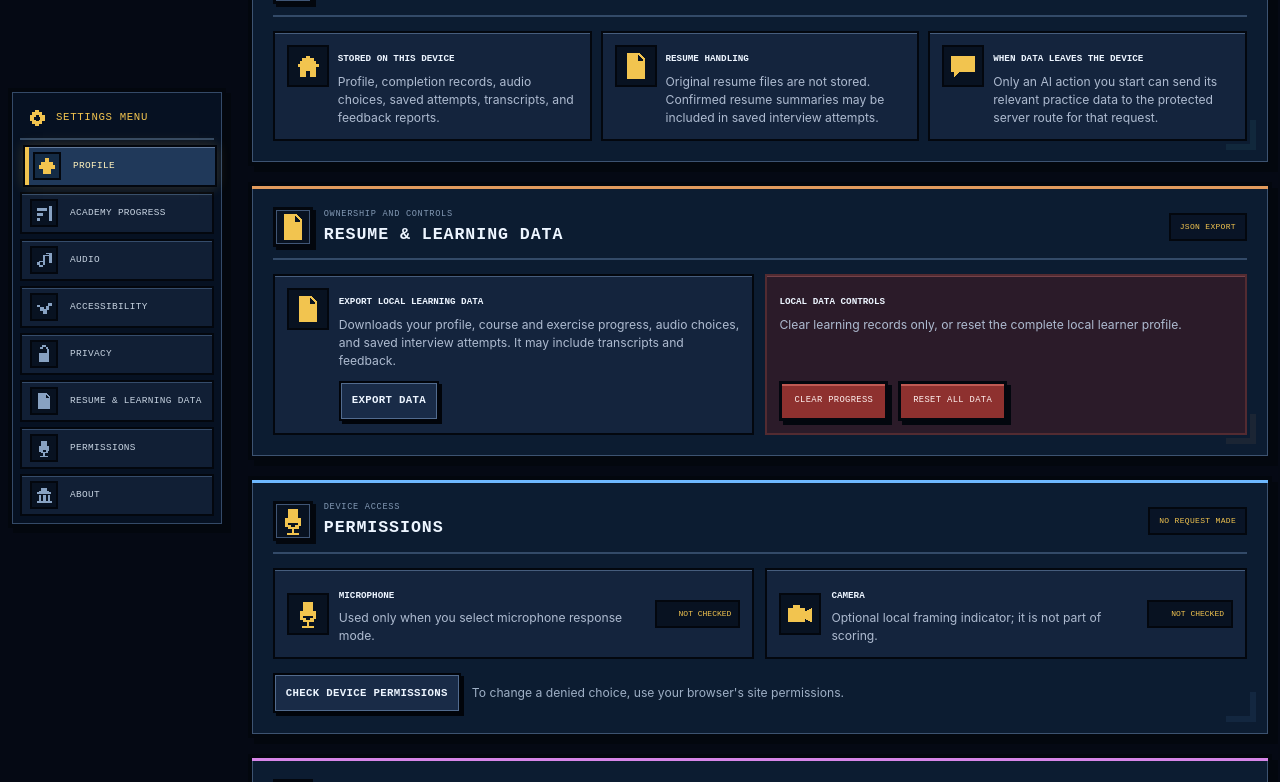
Test case: SettingsPanel › resets progress and profile only after confirmation
(page scrolled)
Click the button "Reset All Data" at [953, 400], box [898, 380, 1007, 420]
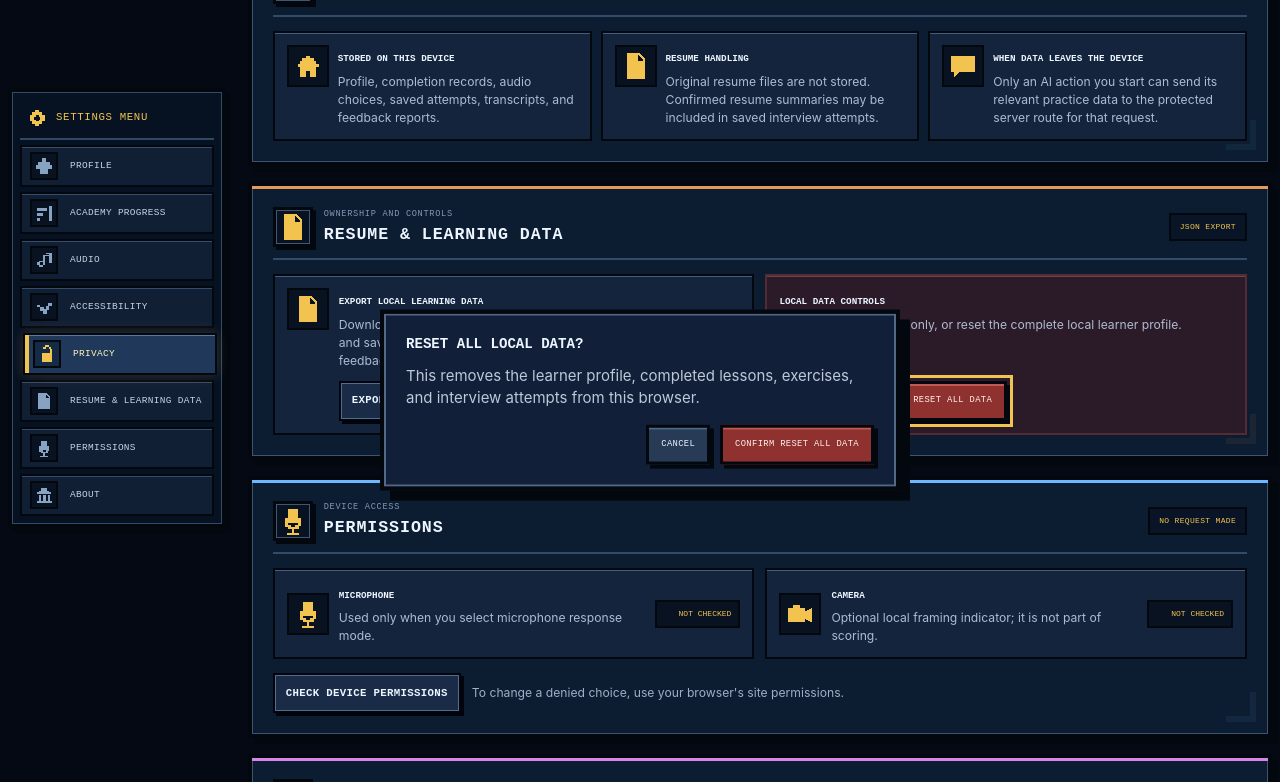
Click the button "Confirm Reset All Data" at [797, 444], box [720, 424, 874, 464]
(page scrolled)
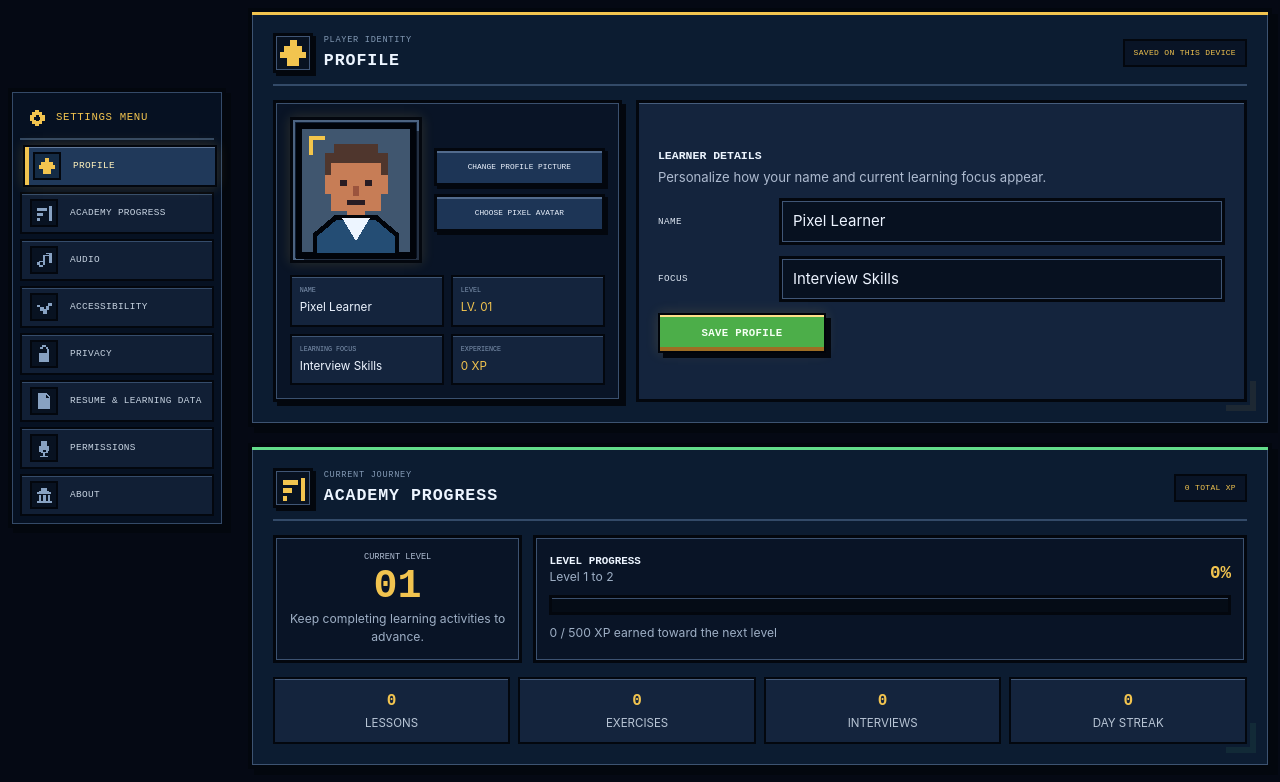
Check: the text "LV. 01" is shown, box [461, 300, 492, 314]
Check: the field labelled "Name" holds "Pixel Learner", box [779, 198, 1225, 245]
